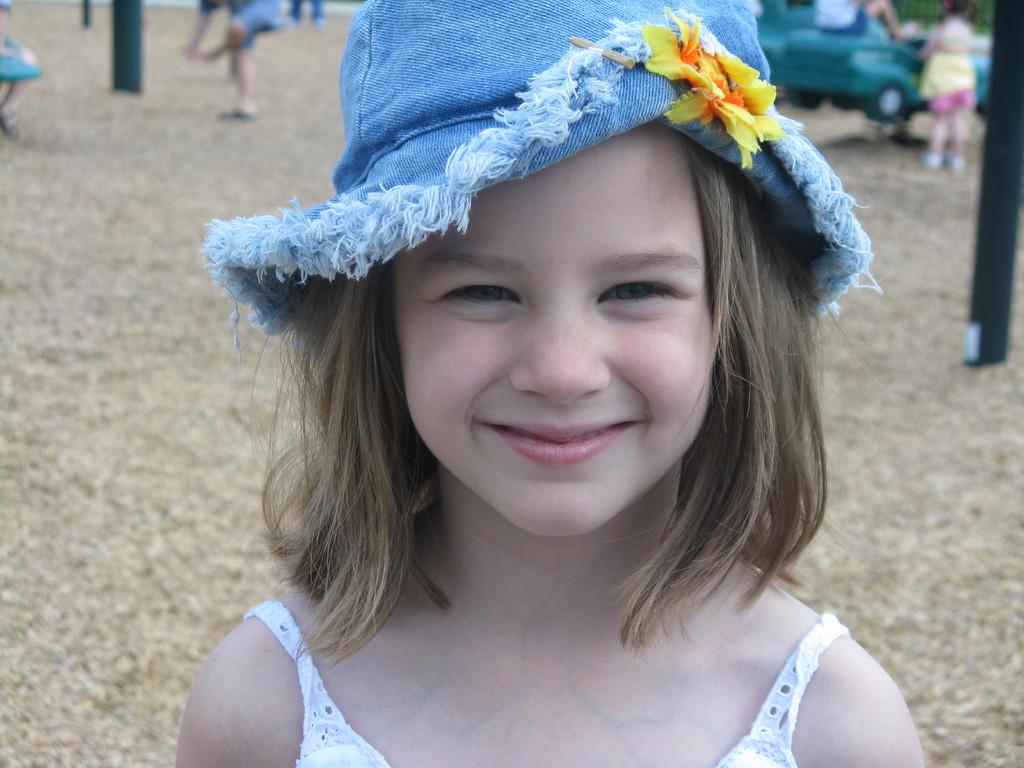Hat: (202, 0, 882, 360)
